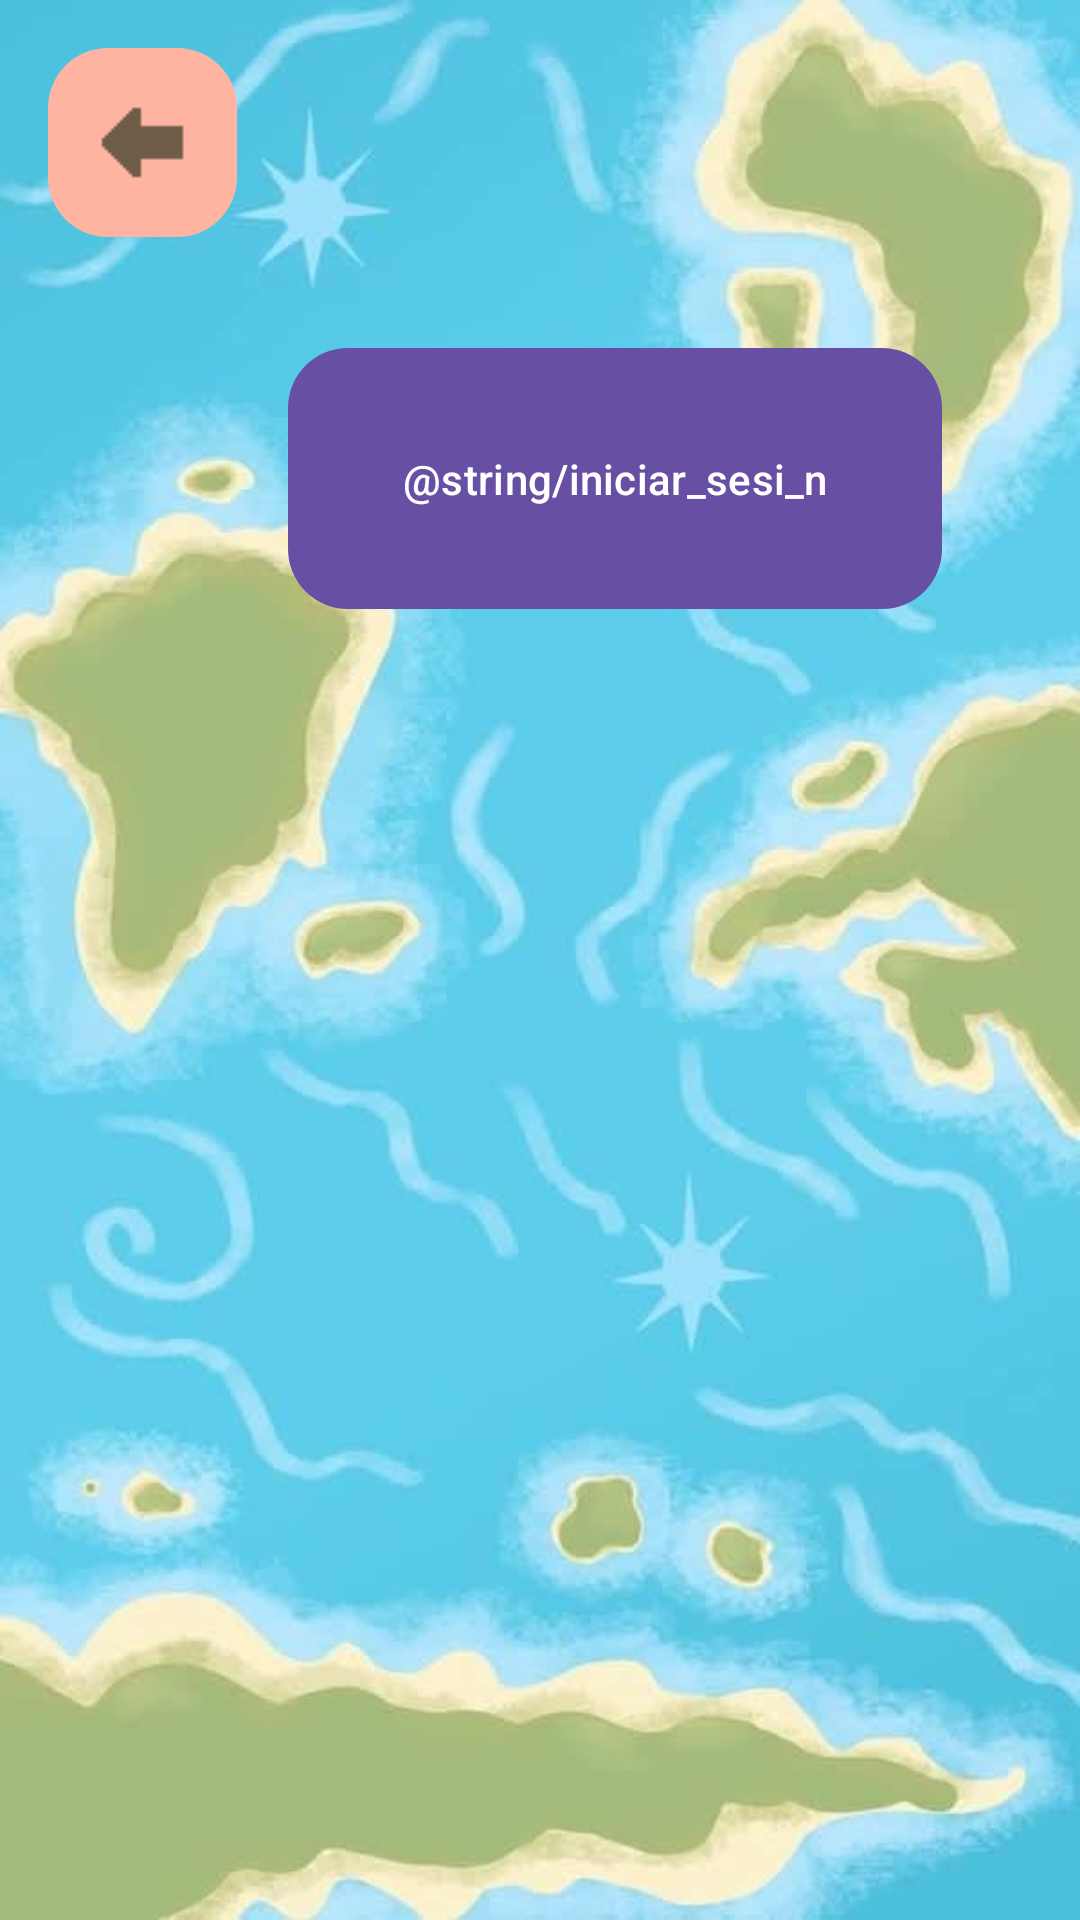

Icons on this 1080w x 1920h Android screen, each with its box as [x1, y1, x2, y2]:
flecha: [48, 48, 237, 237]
